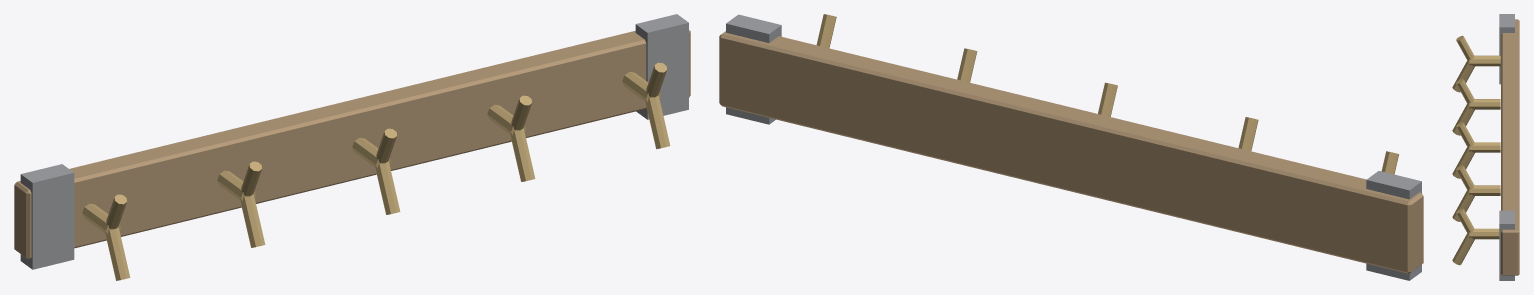
The model's file is roman-bathhouse-and-palaestra-clothes-hook-rail-024260a7__37890.glb.
The picture shows the model from 3 angles, left to right: view 1: azimuth 30°, elevation 25°; view 2: azimuth 150°, elevation 25°; view 3: azimuth 270°, elevation 25°; orthographic projection. The views are drawn at different scales.
Visible parts, largest first — view 1: clothes-hook-rail; view 2: clothes-hook-rail; view 3: clothes-hook-rail.
Boxes of the visible parts, x1,y1,x2,y2 form: clothes-hook-rail: [14, 14, 690, 280]; clothes-hook-rail: [719, 14, 1423, 280]; clothes-hook-rail: [1452, 14, 1519, 280].
Bounding box in the file's own units: 1.6 × 0.2072 × 0.2143.
